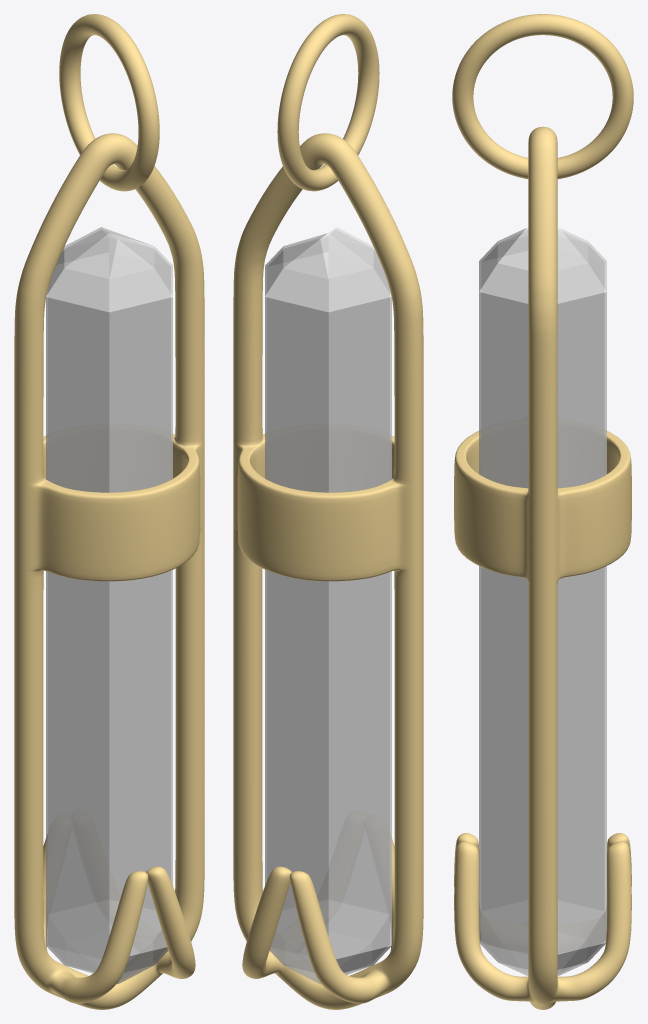
The model's file is crystal.glb.
The picture shows the model from 3 angles, left to right: view 1: azimuth 30°, elevation 25°; view 2: azimuth 150°, elevation 25°; view 3: azimuth 270°, elevation 25°; orthographic projection.
Visible parts, largest first — view 1: Cylinder.003, Cylinder.001; view 2: Cylinder.003, Cylinder.001; view 3: Cylinder.001, Cylinder.003.
Boxes of the visible parts, left/top/right/bottom form: Cylinder.003: left=14, top=14, right=204, bottom=1009; Cylinder.001: left=46, top=227, right=172, bottom=984; Cylinder.003: left=233, top=14, right=423, bottom=1009; Cylinder.001: left=265, top=227, right=391, bottom=984; Cylinder.001: left=479, top=228, right=606, bottom=975; Cylinder.003: left=452, top=14, right=633, bottom=1009.
Size of the model in its own units: 0.00674 by 0.0341 by 0.00568.
2 materials, 2 textured.
